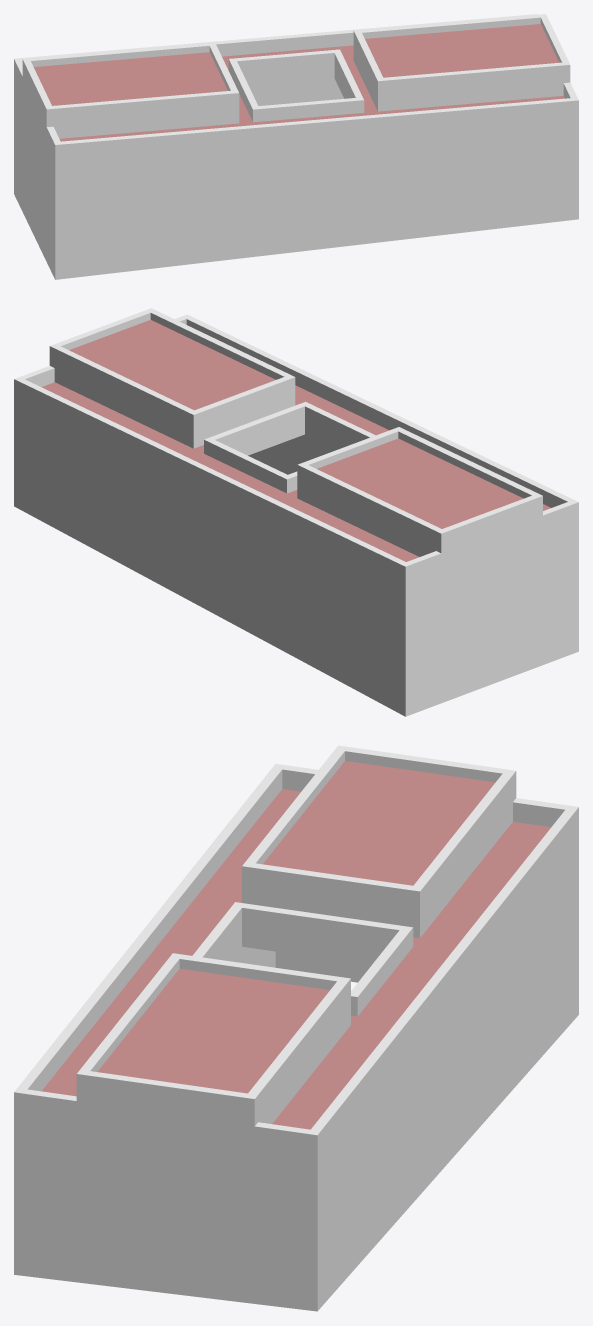
The model's file is LOD_Block_3_7.glb.
3 views of the same model, one above another, from view 1: azimuth 30°, elevation 25°; view 2: azimuth 150°, elevation 25°; view 3: azimuth 270°, elevation 25° (orthographic). The views are drawn at different scales.
Visible parts, largest first — view 1: mesh_CityEngineMaterial_204; view 2: mesh_CityEngineMaterial_204; view 3: mesh_CityEngineMaterial_204.
Boxes of the visible parts, box(x1,y1,x2,y2) form: mesh_CityEngineMaterial_204: box(14, 14, 578, 279); mesh_CityEngineMaterial_204: box(14, 308, 578, 716); mesh_CityEngineMaterial_204: box(14, 745, 578, 1311).
Size of the model in its own units: 40.94 by 12.08 by 26.31.
